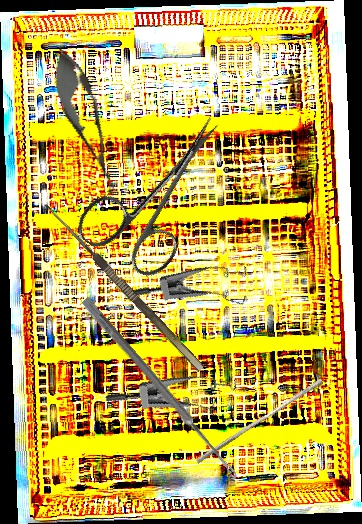Hook Surgical: (34, 200, 205, 381)
Iris Scissors: (70, 90, 253, 289)
Micro Scissor: (41, 42, 131, 198)
Pusher: (195, 374, 324, 469)
Speculum: (104, 354, 248, 455), (129, 244, 259, 344)
Surgical Spoon: (79, 296, 242, 481)
